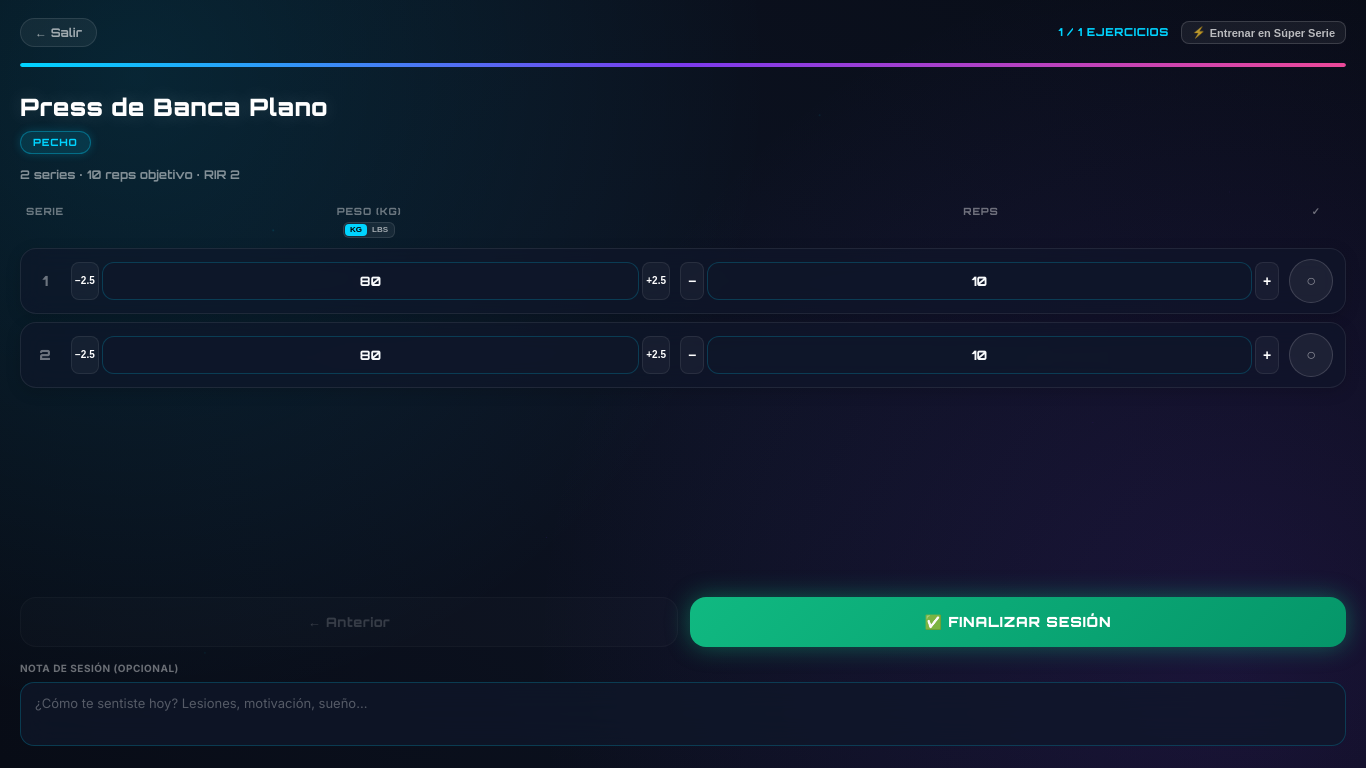
ActiveSession - Weight Stepper & KG/LBS Capture Unit Tests › 2. Micro-botones Stepper de Peso (+/-) y disponibilidad del teclado › no permite valores negativos al decrementar el peso
# Escribir 1 kg
Type "1" into the field named "Peso serie 1".
click(371, 281); type("1")  # box [102,262,639,300]
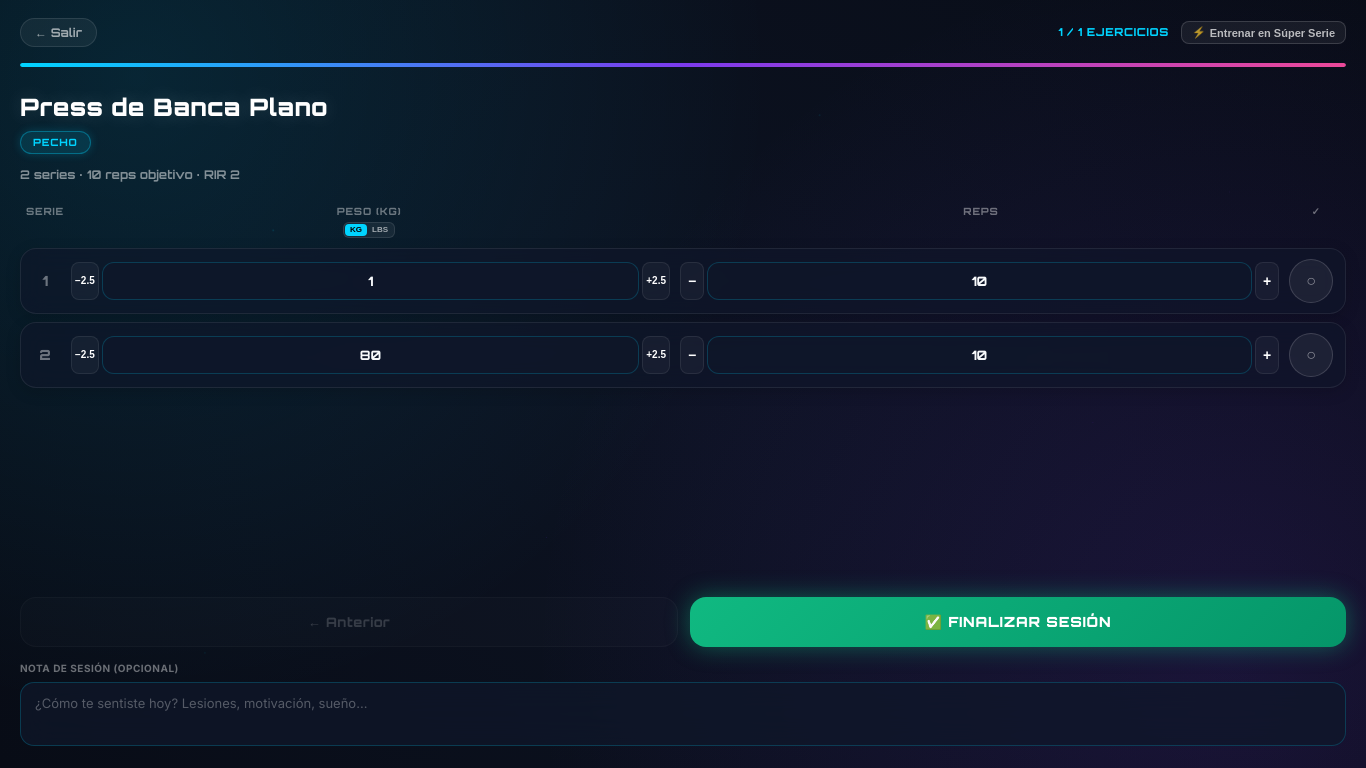
# Decrementar: 1 - 2.5 debe detenerse en 0
Click the button named "Reducir peso serie 1".
click(85, 281)  # box [71,262,99,300]
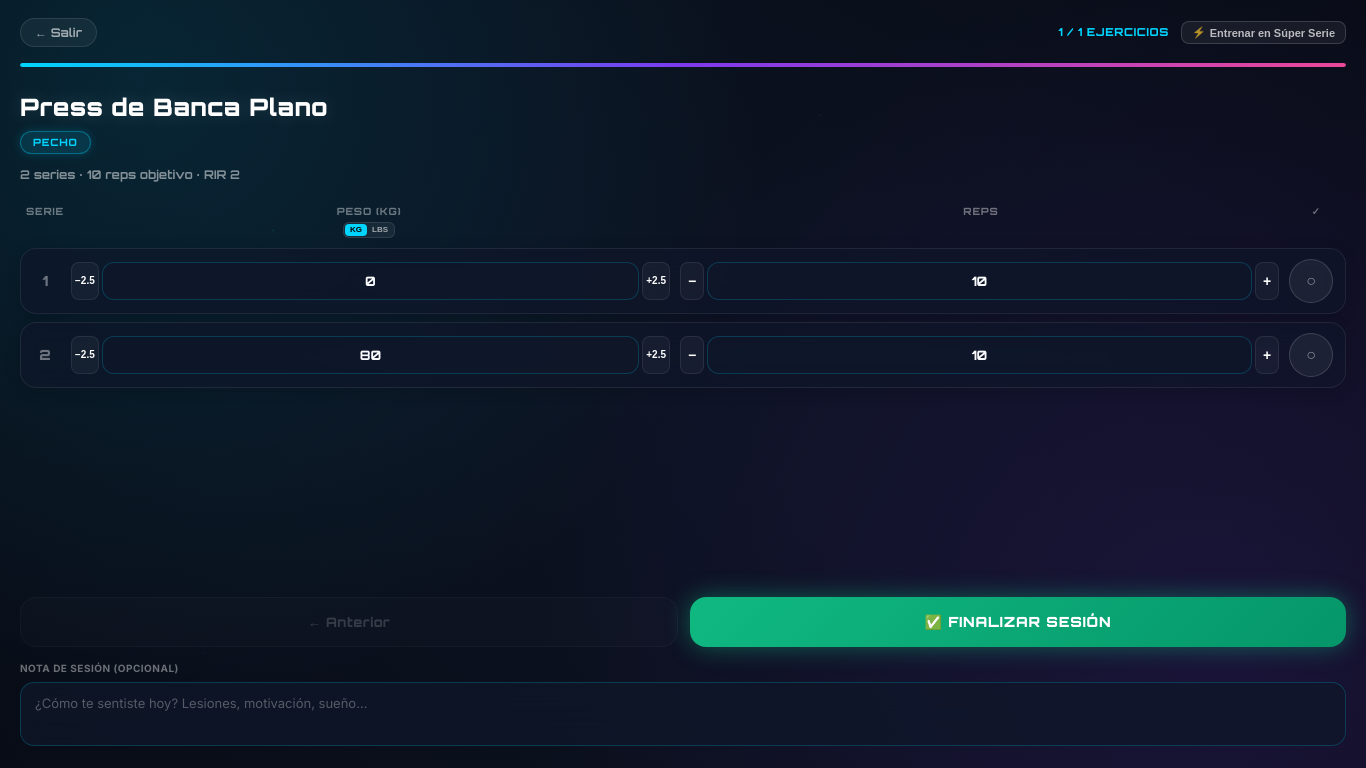
Expected: the field named "Peso serie 1" holds "0", [102,262,639,300]
